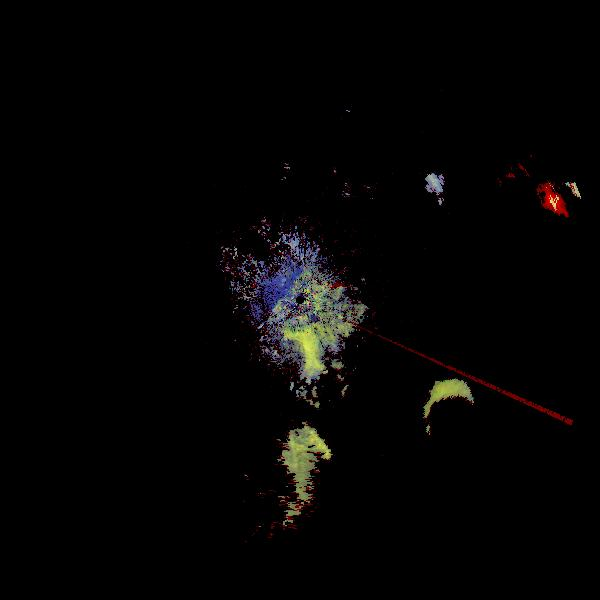roost: (414, 376, 495, 457), (259, 326, 325, 392), (399, 168, 462, 231)
